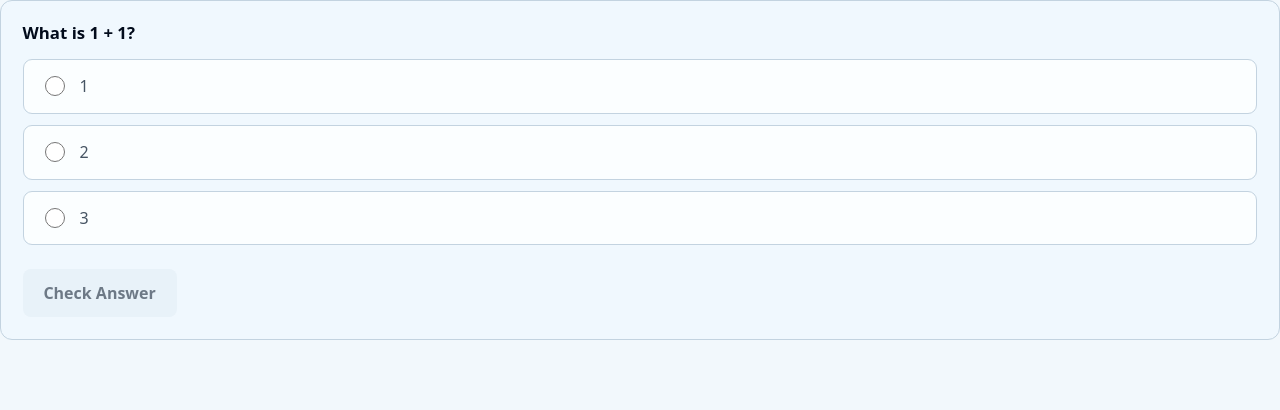
it: InteractiveExercise › renders multiple choice options and handles correct selection
The image size is (1280, 410).
expect the heading "What is 1 + 1?" is shown: met, box [23,21,135,44]
// Select correct option
Click the text "2": click(84, 152) [80,140,89,164]
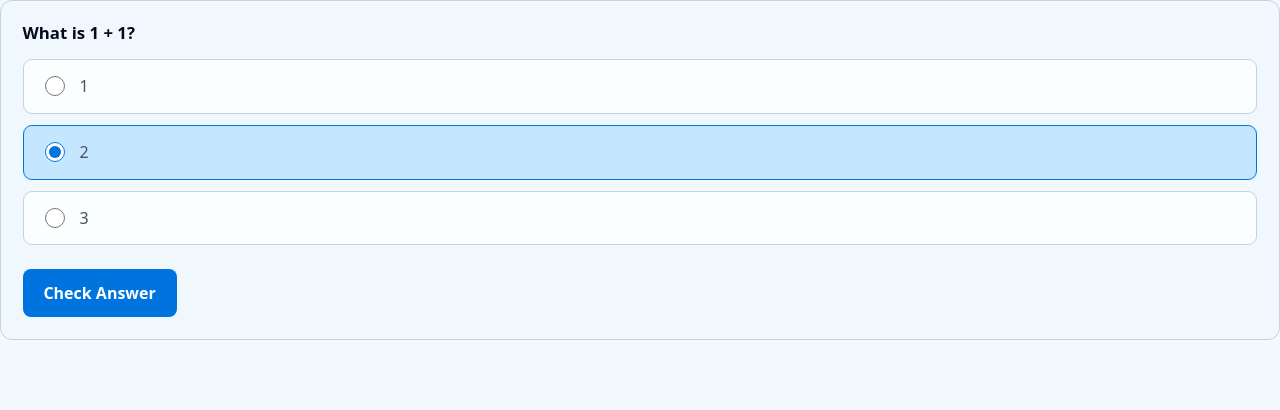
// Check answer
Click the button "Check Answer": click(100, 294) [23,270,177,318]
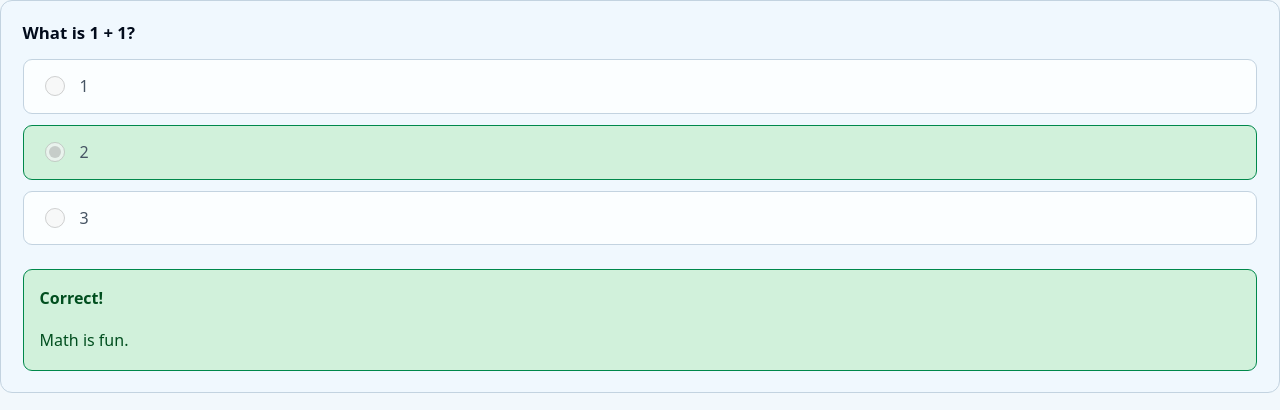
expect the text "Correct!" is shown: met, box [40,288,103,310]
expect the text "Math is fun." is shown: met, box [40,329,128,351]
